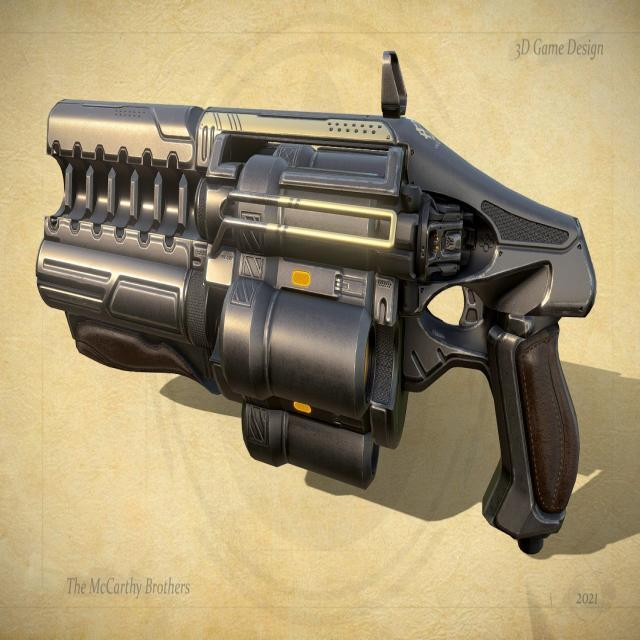rocket launcher: (33, 54, 590, 563)
